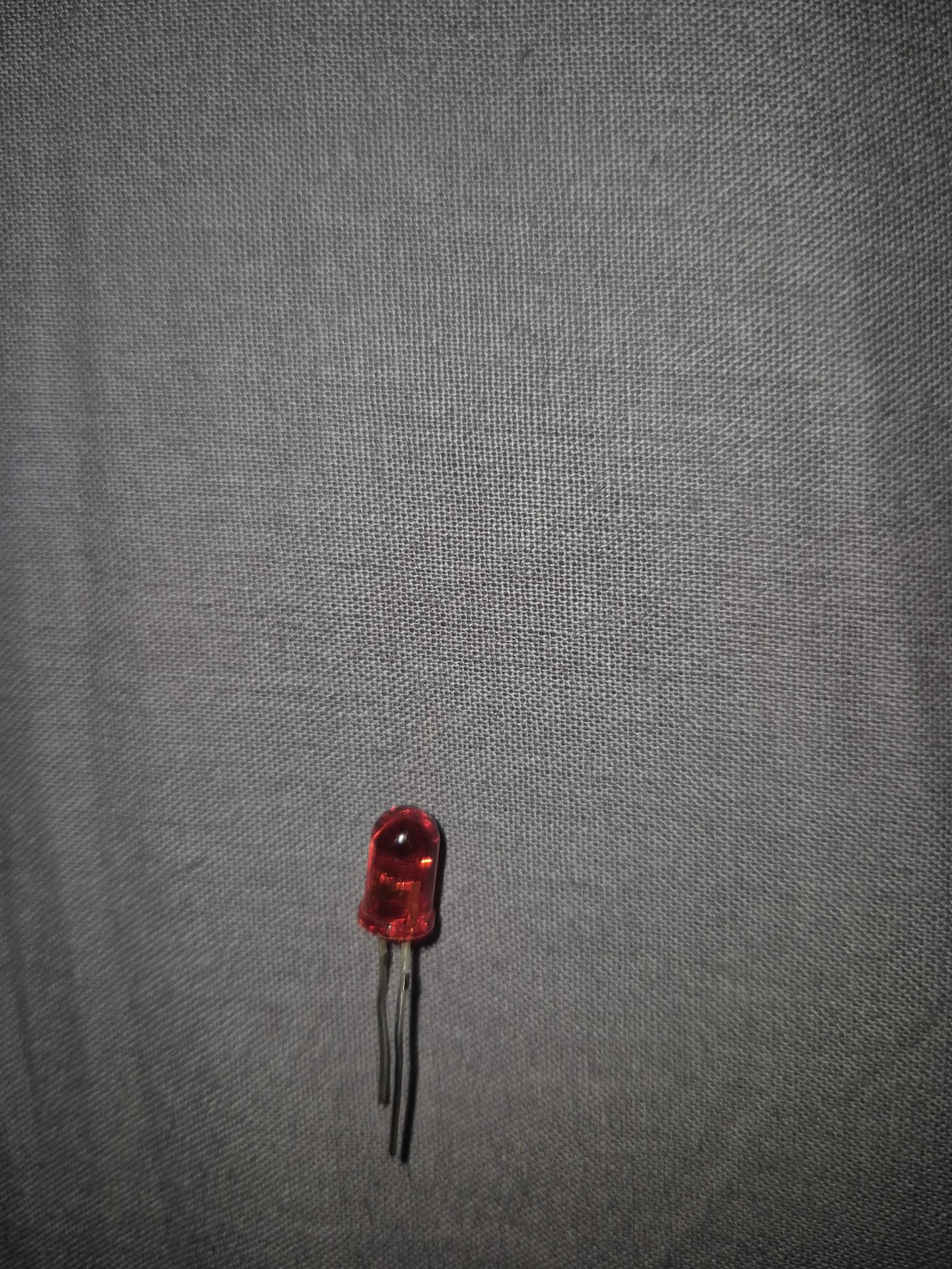led-diode: (350, 802, 466, 1179)
